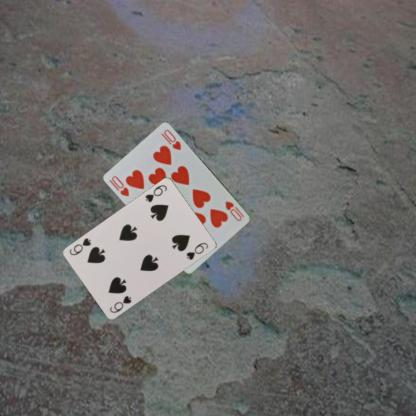10h: (109, 173, 131, 198), (223, 199, 245, 222)
6s: (107, 293, 133, 314), (143, 183, 168, 204)
